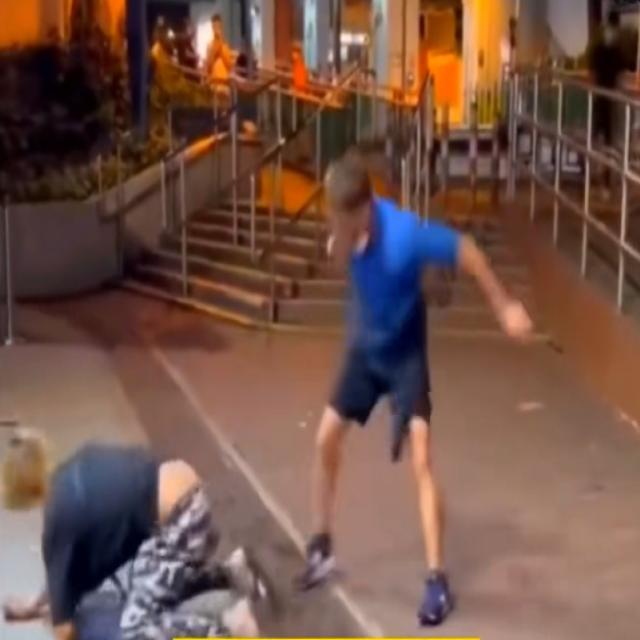nofight: (296, 144, 470, 629), (3, 417, 283, 636)
